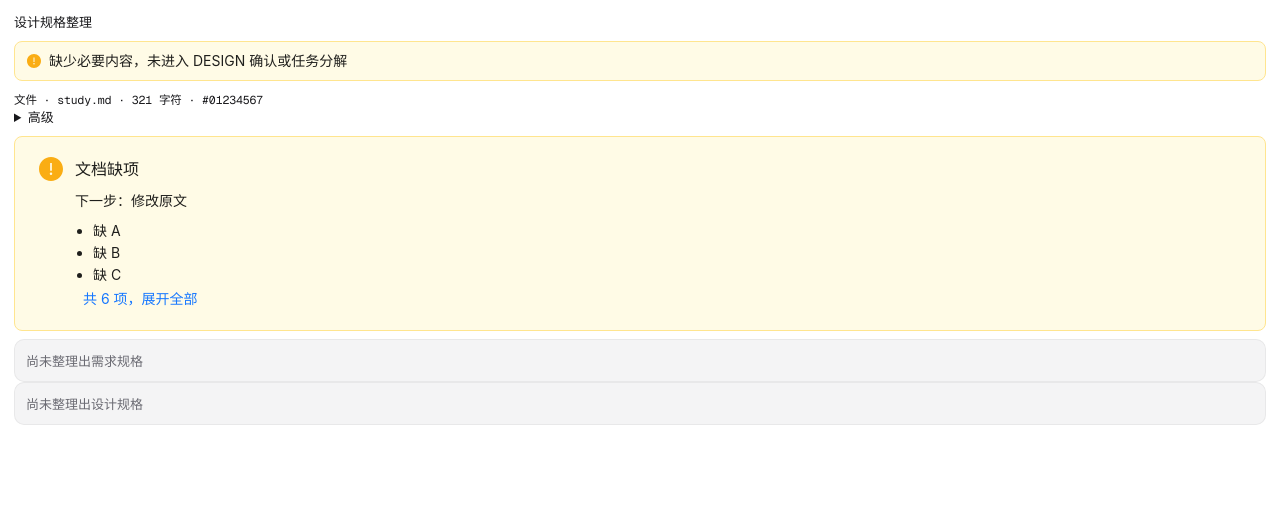
Test case: DesignSpecPreview compact summary › shows three missing items plus the total and expands to all of them
Check: the message with test id "design-error-hint" shows "缺 A", box [93,222,121,239]
Check: the message with test id "design-error-hint" shows "缺 C", box [93,266,121,283]
Click the button "共 6 项，展开全部".
click(140, 298)  # box [75,286,206,310]
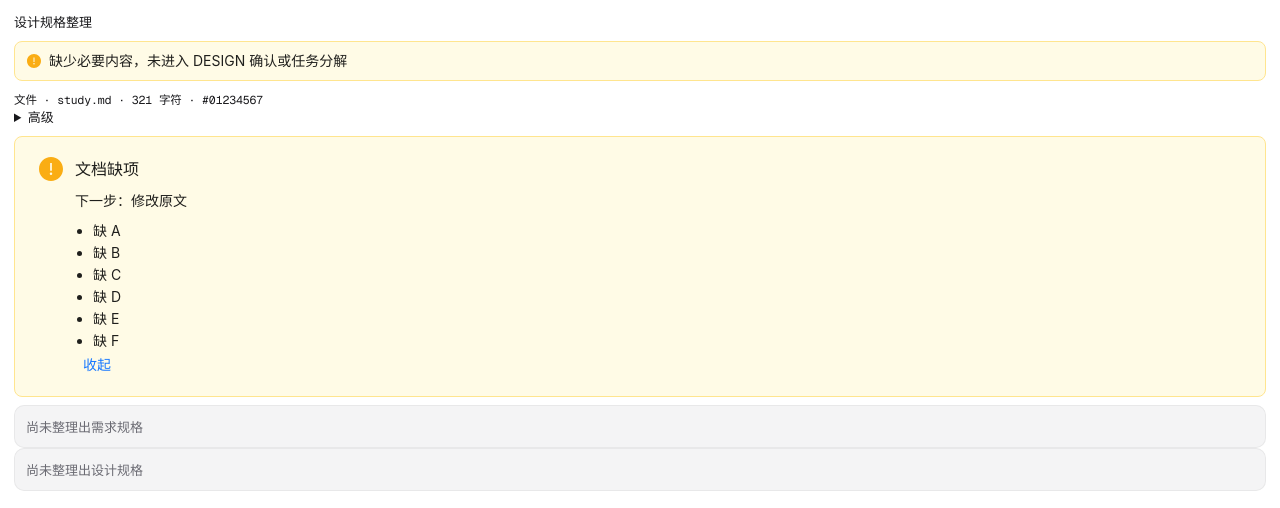
Check: the message with test id "design-error-hint" shows "缺 D", box [93,288,121,305]
Check: the message with test id "design-error-hint" shows "缺 E", box [93,310,119,327]
Check: the message with test id "design-error-hint" shows "缺 F", box [93,332,119,349]
Click the button "收起".
click(97, 364)  # box [75,352,119,376]
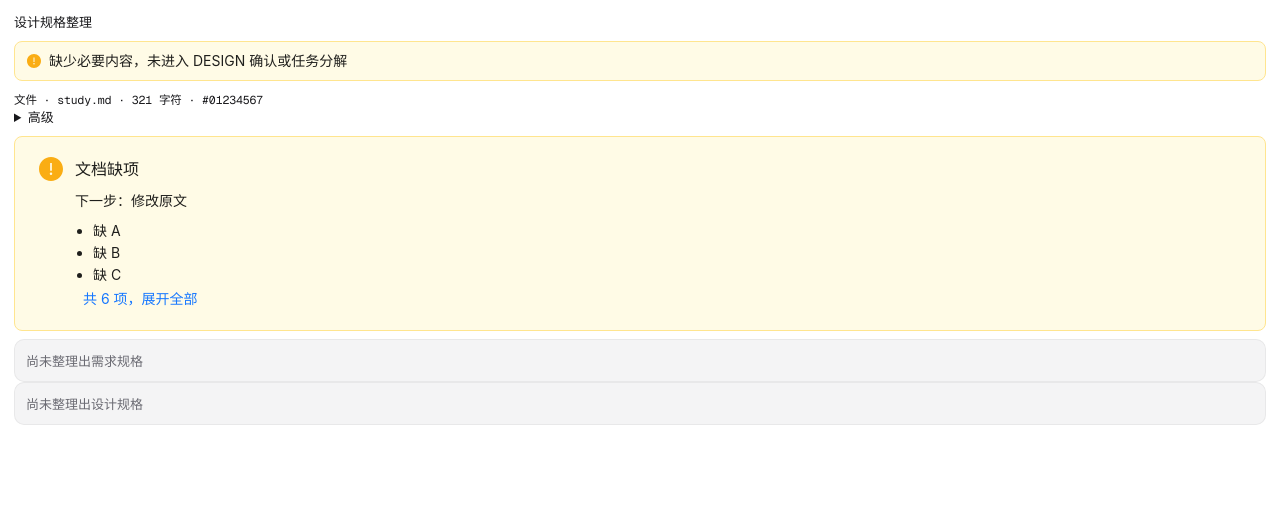
Check: the list item with test id "design-error-hint" no longer shows "缺 D"
